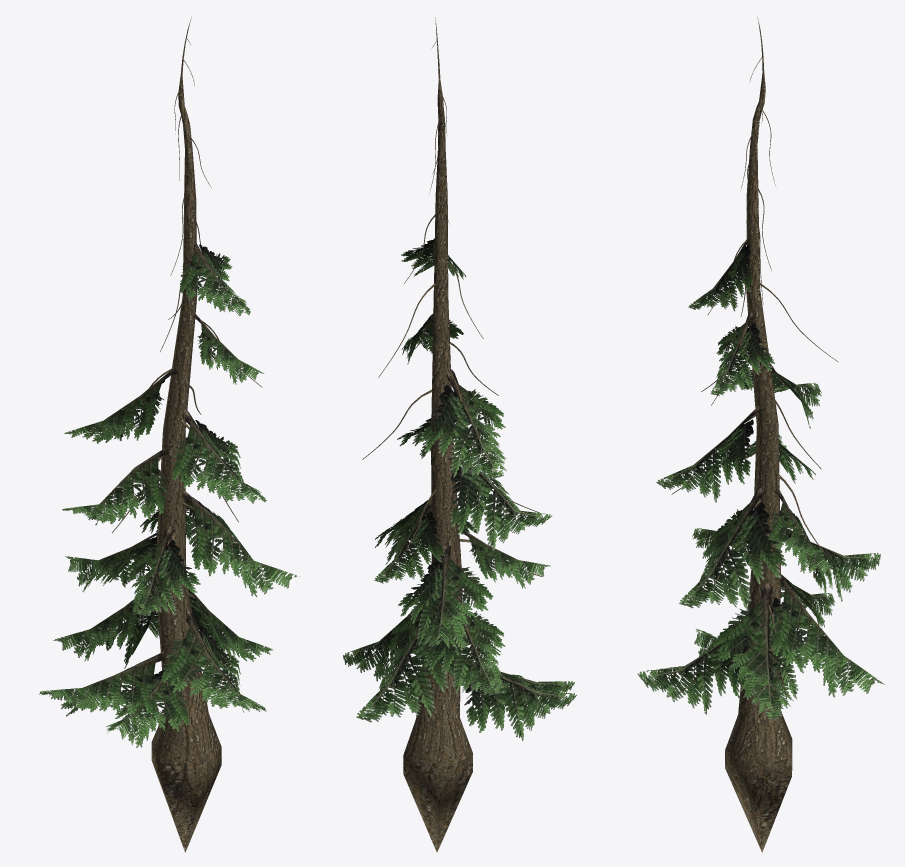
The model's file is Tree - Spruce C-DPGiiy-Z.glb.
The picture shows the model from 3 angles, left to right: view 1: azimuth 30°, elevation 25°; view 2: azimuth 150°, elevation 25°; view 3: azimuth 270°, elevation 25°; orthographic projection.
Parts seen in each view (by area): view 1: RHE_SpruceC_Leaves, RHE_SpruceC_Trunk; view 2: RHE_SpruceC_Leaves, RHE_SpruceC_Trunk; view 3: RHE_SpruceC_Leaves, RHE_SpruceC_Trunk.
Part boxes in pixels (left/top/right/bottom): RHE_SpruceC_Leaves: left=39, top=242, right=299, bottom=747; RHE_SpruceC_Trunk: left=92, top=16, right=262, bottom=852; RHE_SpruceC_Leaves: left=343, top=238, right=576, bottom=740; RHE_SpruceC_Trunk: left=362, top=17, right=542, bottom=852; RHE_SpruceC_Leaves: left=637, top=238, right=884, bottom=719; RHE_SpruceC_Trunk: left=671, top=16, right=838, bottom=852.
Size of the model in its own units: 13.9 by 44.93 by 12.46.
2 materials, 2 textured.
